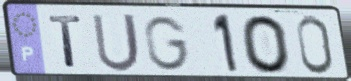0: (294, 13, 336, 77)
1: (211, 12, 241, 76)
G: (142, 14, 192, 72)
O: (238, 13, 293, 76)
T: (46, 14, 85, 71)
U: (89, 12, 143, 74)
